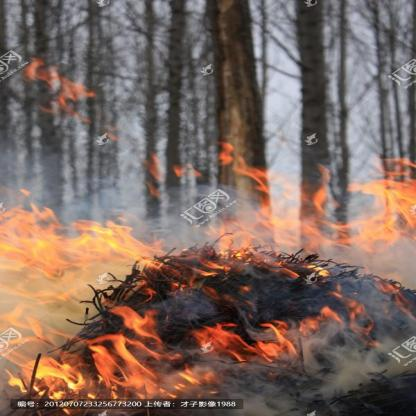fire: (6, 66, 412, 411)
